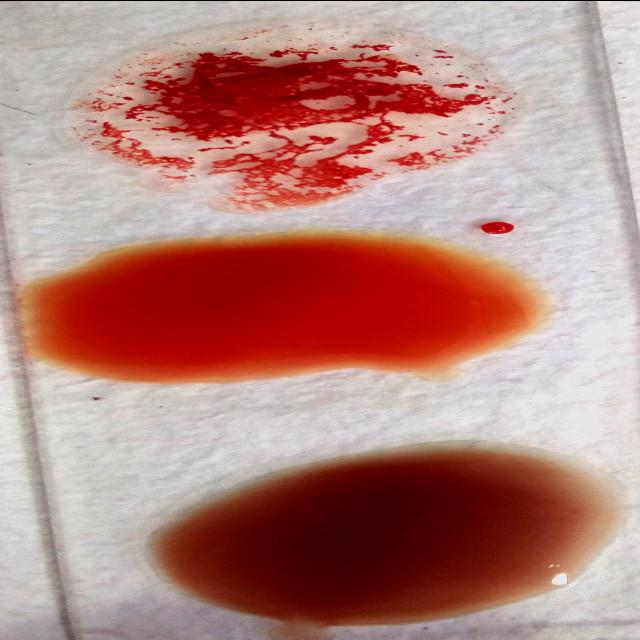D: (68, 29, 514, 195)
